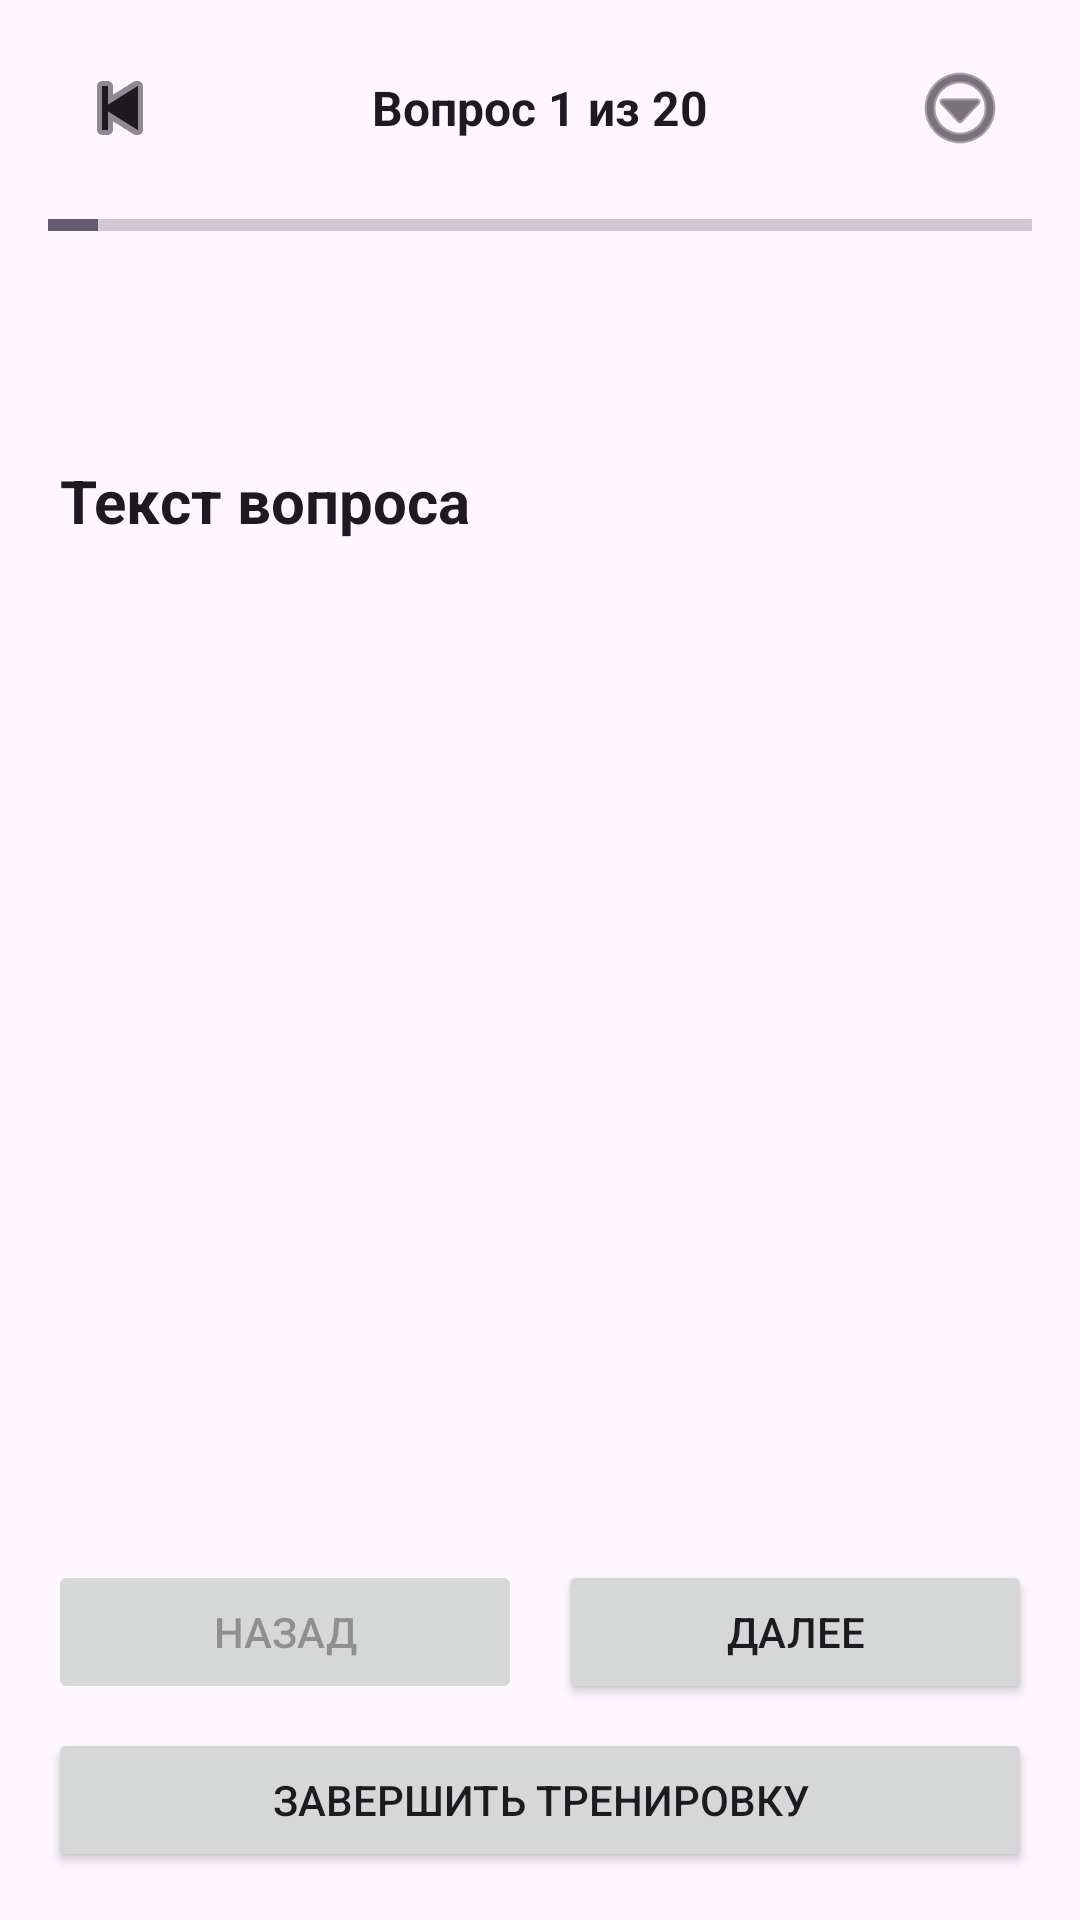

Where to tap for icons on this 1080*1920 app screen, as point (x, y):
Меню: point (960, 108)
Назад: point (120, 108)
